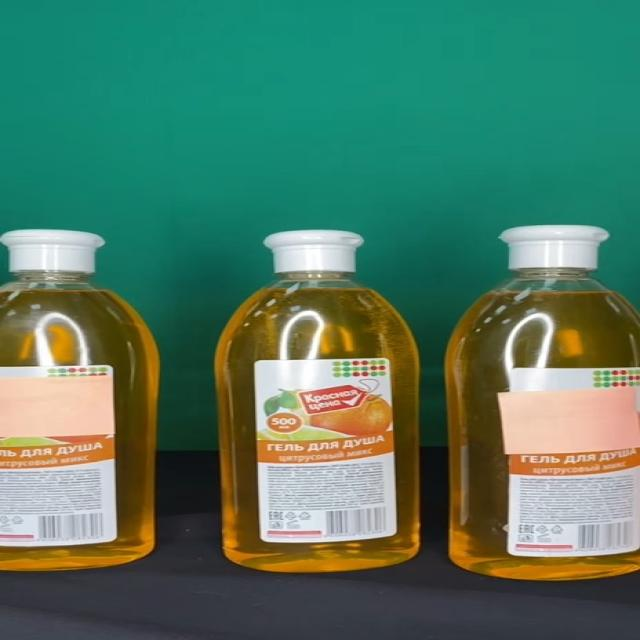Bottle: (215, 230, 423, 572), (446, 224, 640, 580), (0, 229, 162, 572)
Cap: (499, 225, 610, 268), (0, 230, 106, 272), (263, 230, 366, 272)
